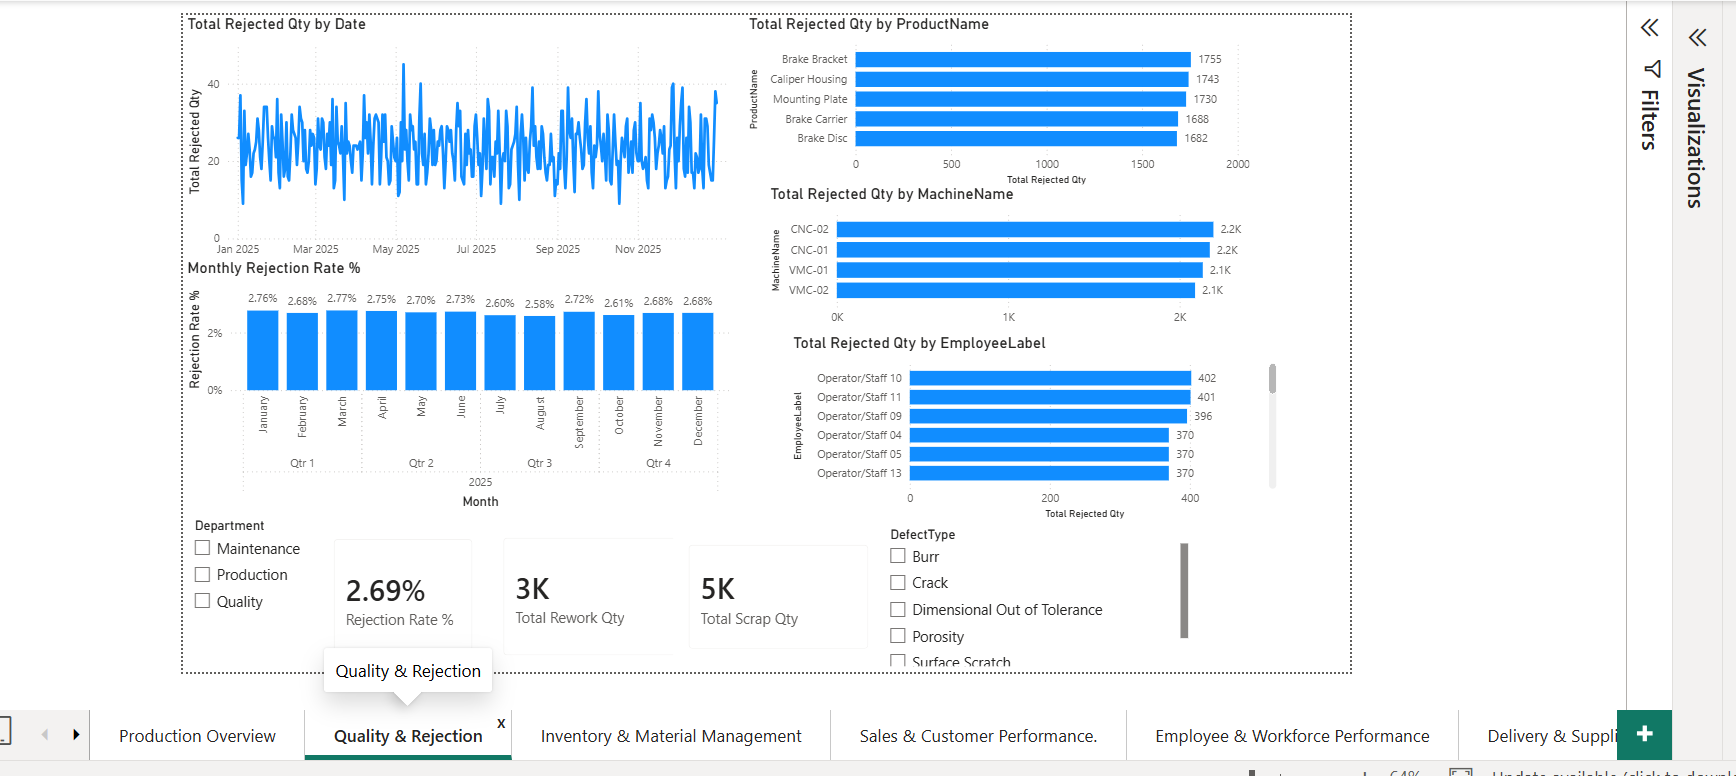

The dashboard page shown, as its layout file describes it:
{"tool":"powerbi","page":{"name":"Quality & Rejection","canvas":[1280,720],"ordinal":1},"visuals":[{"type":"lineChart","fields":{"Category":["tblFactProduction.Date"],"Y":["tblFactQuality.Total Rejected Qty"]},"box":[0,0,616.3,288.3],"z":0},{"type":"clusteredColumnChart","title":"Monthly Rejection Rate %","fields":{"Category":["tblFactProduction.Date.Variation.Date Hierarchy.Year","tblFactProduction.Date.Variation.Date Hierarchy.Quarter","tblFactProduction.Date.Variation.Date Hierarchy.Month"],"Y":["tblFactQuality.Rejection Rate %"]},"box":[0,267.7,604.5,279.5],"z":1000},{"type":"clusteredBarChart","fields":{"Category":["tblDimProduct.ProductName"],"Y":["tblFactQuality.Total Rejected Qty"]},"box":[616.3,0,558.9,191.2],"z":2000},{"type":"clusteredBarChart","fields":{"Category":["tblDimMachine.MachineName"],"Y":["tblFactQuality.Total Rejected Qty"]},"box":[639.8,186.1,559.8,163.2],"z":3000},{"type":"clusteredBarChart","fields":{"Category":["tblDimEmployee.EmployeeLabel"],"Y":["tblFactQuality.Total Rejected Qty"]},"box":[664.8,350.1,539.8,207.4],"z":4000},{"type":"slicer","fields":{"Values":["tblDimEmployee.Department"]},"box":[0,547.2,148.6,163.3],"z":5000},{"type":"cardVisual","fields":{"Data":["tblFactQuality.Rejection Rate %"]},"box":[148.6,557.4,186.8,163.3],"z":6000},{"type":"cardVisual","fields":{"Data":["tblFactQuality.Total Rework Qty"]},"box":[334.6,556.5,269.3,163.2],"z":7000},{"type":"cardVisual","fields":{"Data":["tblFactQuality.Total Scrap Qty"]},"box":[537,564.7,231.8,148.5],"z":8000},{"type":"slicer","fields":{"Values":["tblDimDefect.DefectType"]},"box":[762.2,556.5,344.4,163.2],"z":9000}]}

Visuals, with their boxes on the page's 1280x720 design canvas (x1, y1, x2, y2). These are canvas units, not pixel positions in the 1736x776 screenshot, which may show the page scaled, cropped or inside an application window:
lineChart - tblFactProduction.Date x tblFactQuality.Total Rejected Qty: [left=0, top=0, right=616, bottom=288]
"Monthly Rejection Rate %" clusteredColumnChart: [left=0, top=268, right=604, bottom=547]
clusteredBarChart - tblDimProduct.ProductName x tblFactQuality.Total Rejected Qty: [left=616, top=0, right=1175, bottom=191]
clusteredBarChart - tblDimMachine.MachineName x tblFactQuality.Total Rejected Qty: [left=640, top=186, right=1200, bottom=349]
clusteredBarChart - tblDimEmployee.EmployeeLabel x tblFactQuality.Total Rejected Qty: [left=665, top=350, right=1205, bottom=558]
slicer - tblDimEmployee.Department: [left=0, top=547, right=149, bottom=710]
cardVisual - tblFactQuality.Rejection Rate %: [left=149, top=557, right=335, bottom=721]
cardVisual - tblFactQuality.Total Rework Qty: [left=335, top=556, right=604, bottom=720]
cardVisual - tblFactQuality.Total Scrap Qty: [left=537, top=565, right=769, bottom=713]
slicer - tblDimDefect.DefectType: [left=762, top=556, right=1107, bottom=720]
